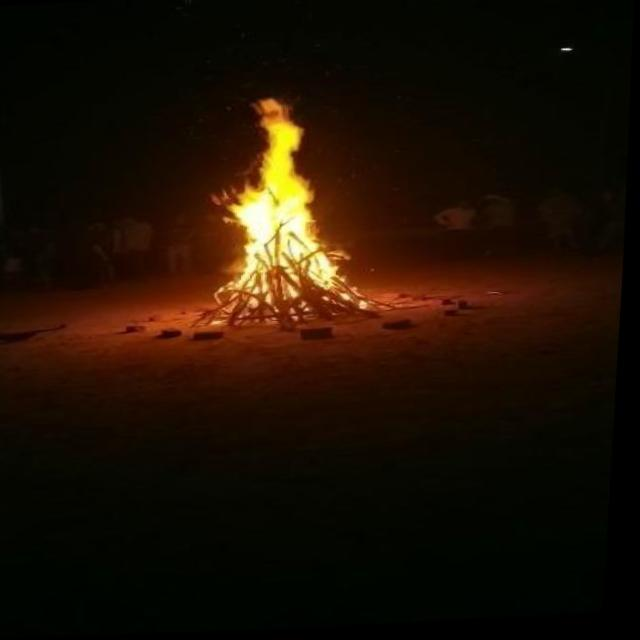fire: (183, 84, 378, 325)
